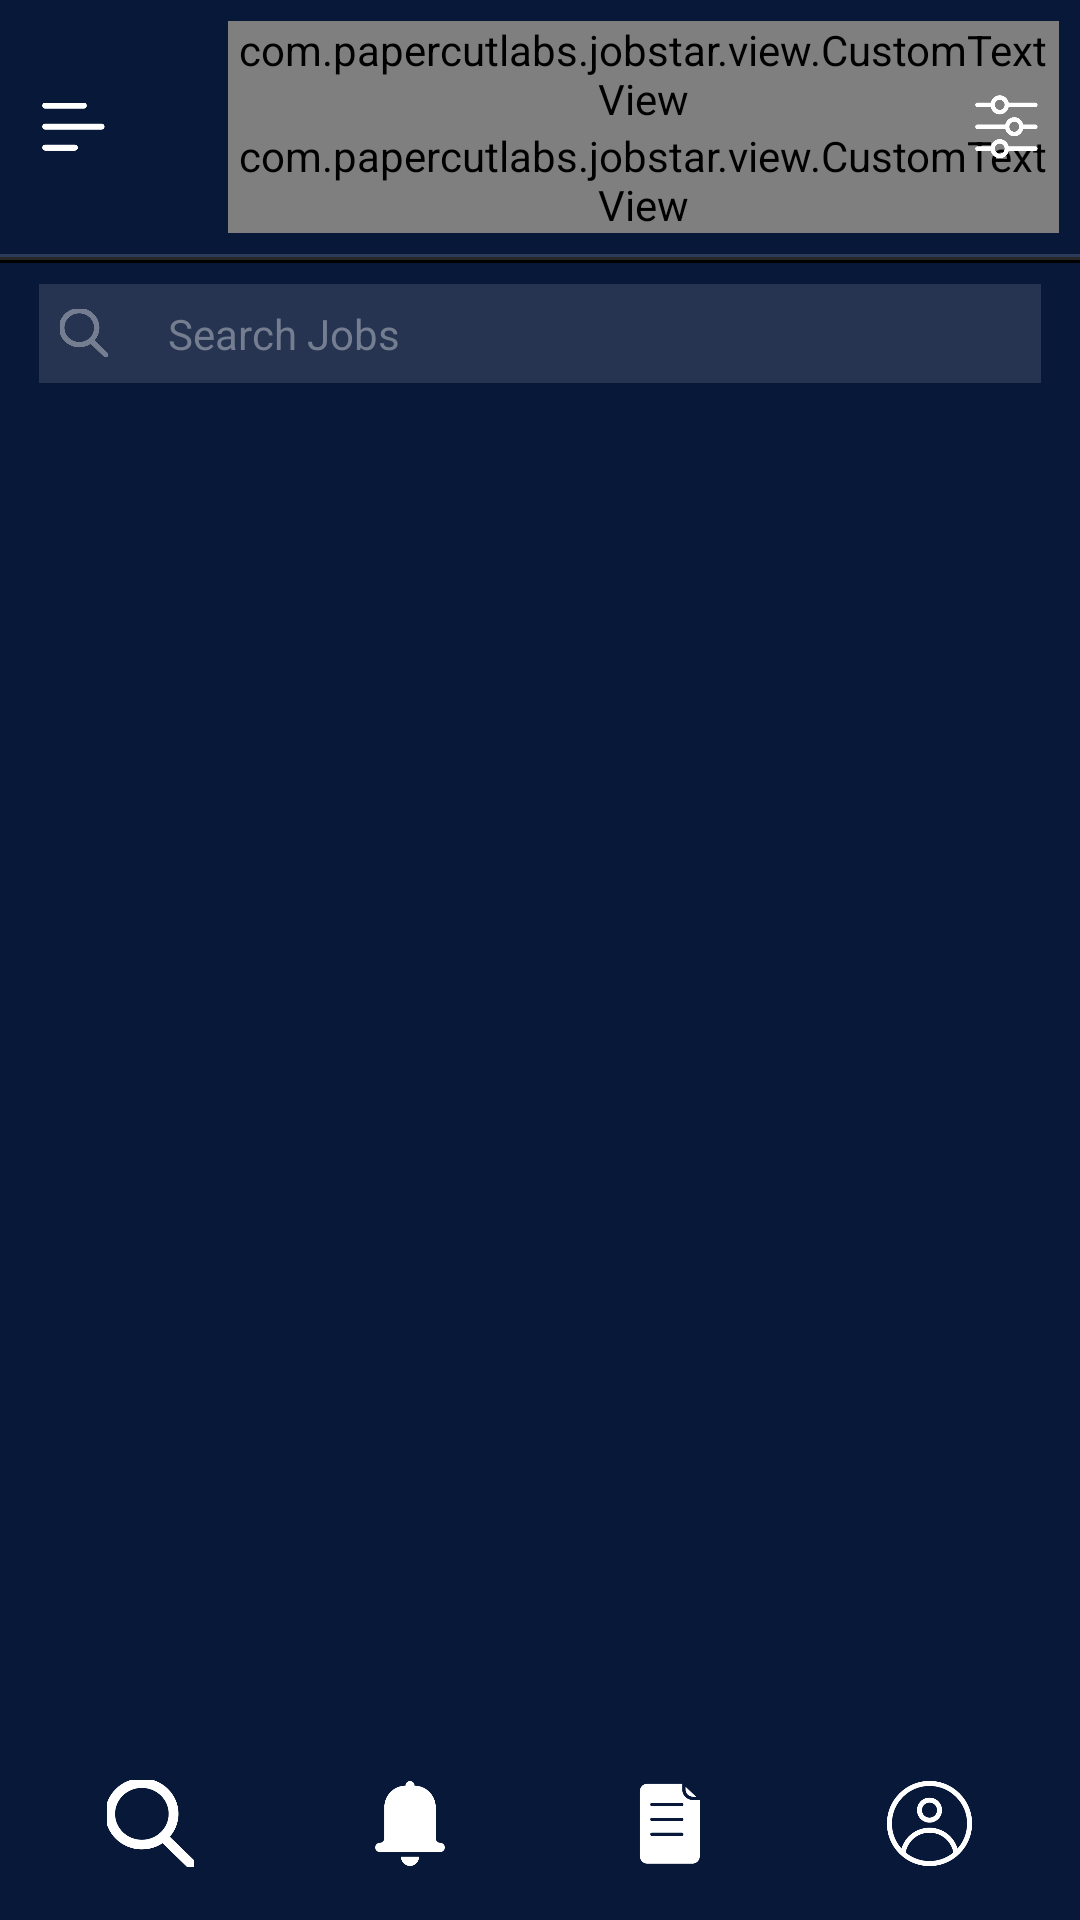

Icons on this 1080px x 1920px Android screen, each with its box as bbox(x1, y1, x2, y2):
filter: bbox(968, 95, 1046, 173)
hamburger menu: bbox(42, 103, 105, 151)
notification: bbox(375, 1781, 445, 1866)
profile: bbox(887, 1781, 972, 1866)
task: bbox(640, 1784, 700, 1864)
